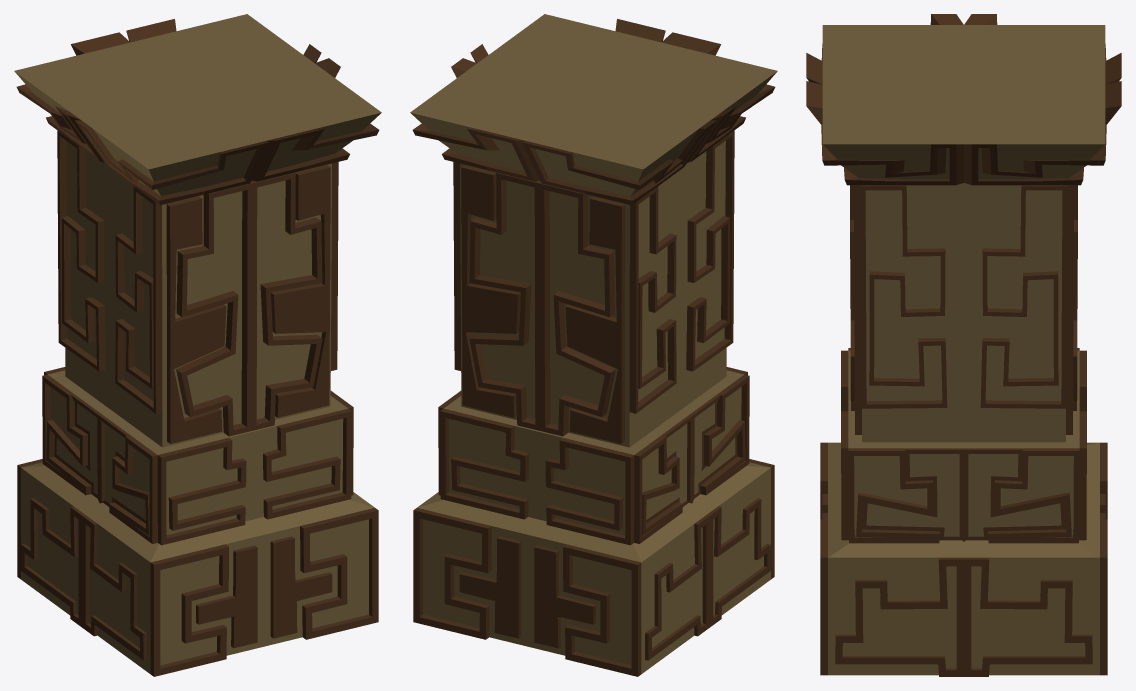
File: monolito.fbx
3 views of the same model, side by side, from view 1: azimuth 30°, elevation 25°; view 2: azimuth 150°, elevation 25°; view 3: azimuth 270°, elevation 25° (orthographic). The views are drawn at different scales.
Parts seen in each view (by area): view 1: Cube.007; view 2: Cube.007; view 3: Cube.007.
Part boxes in pixels (<box>): Cube.007: <box>14,14,381,676</box>; Cube.007: <box>410,14,777,676</box>; Cube.007: <box>806,14,1121,676</box>.
Size of the model in its own units: 227 by 437 by 232.
